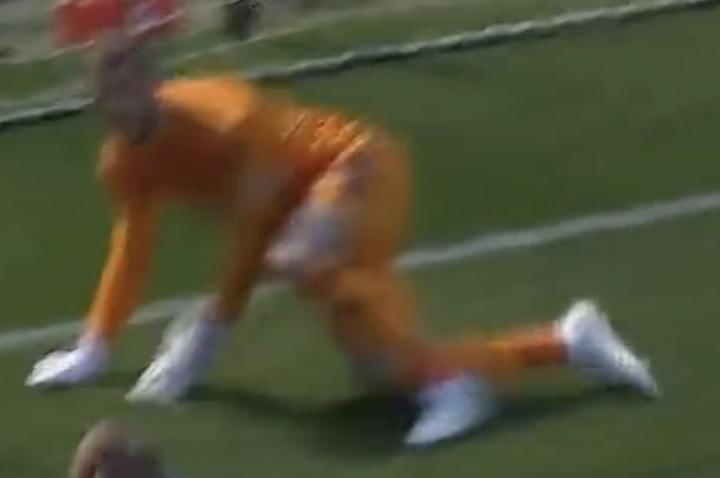goalkeeper: (16, 24, 679, 446)
